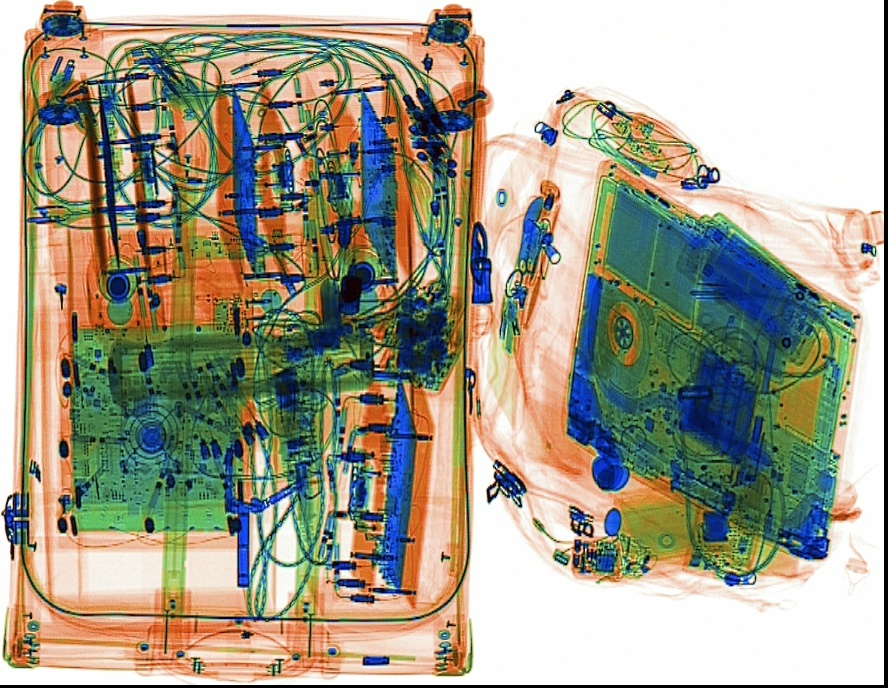powerbank: (676, 343, 765, 471)
